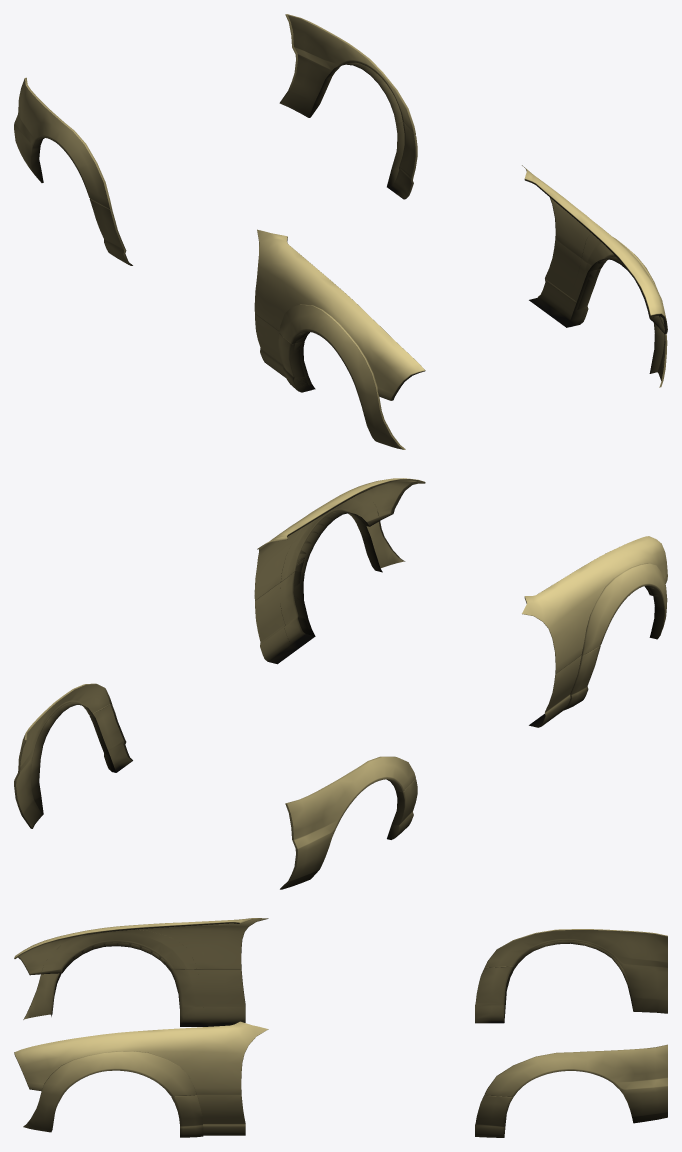
Rendered from MX5_Fender02_Duco.fbx.
The picture shows the model from 3 angles, top to bottom: view 1: azimuth 30°, elevation 25°; view 2: azimuth 150°, elevation 25°; view 3: azimuth 270°, elevation 25°; orthographic projection. The views are drawn at different scales.
Visible parts, largest first — view 1: MX5_Fender02_Duco; view 2: MX5_Fender02_Duco; view 3: MX5_Fender02_Duco.
Boxes of the visible parts, <box> form: MX5_Fender02_Duco: <box>14,14,667,449</box>; MX5_Fender02_Duco: <box>14,478,667,889</box>; MX5_Fender02_Duco: <box>14,918,667,1137</box>.
Bounding box in the file's own units: 165 × 63.28 × 347.
